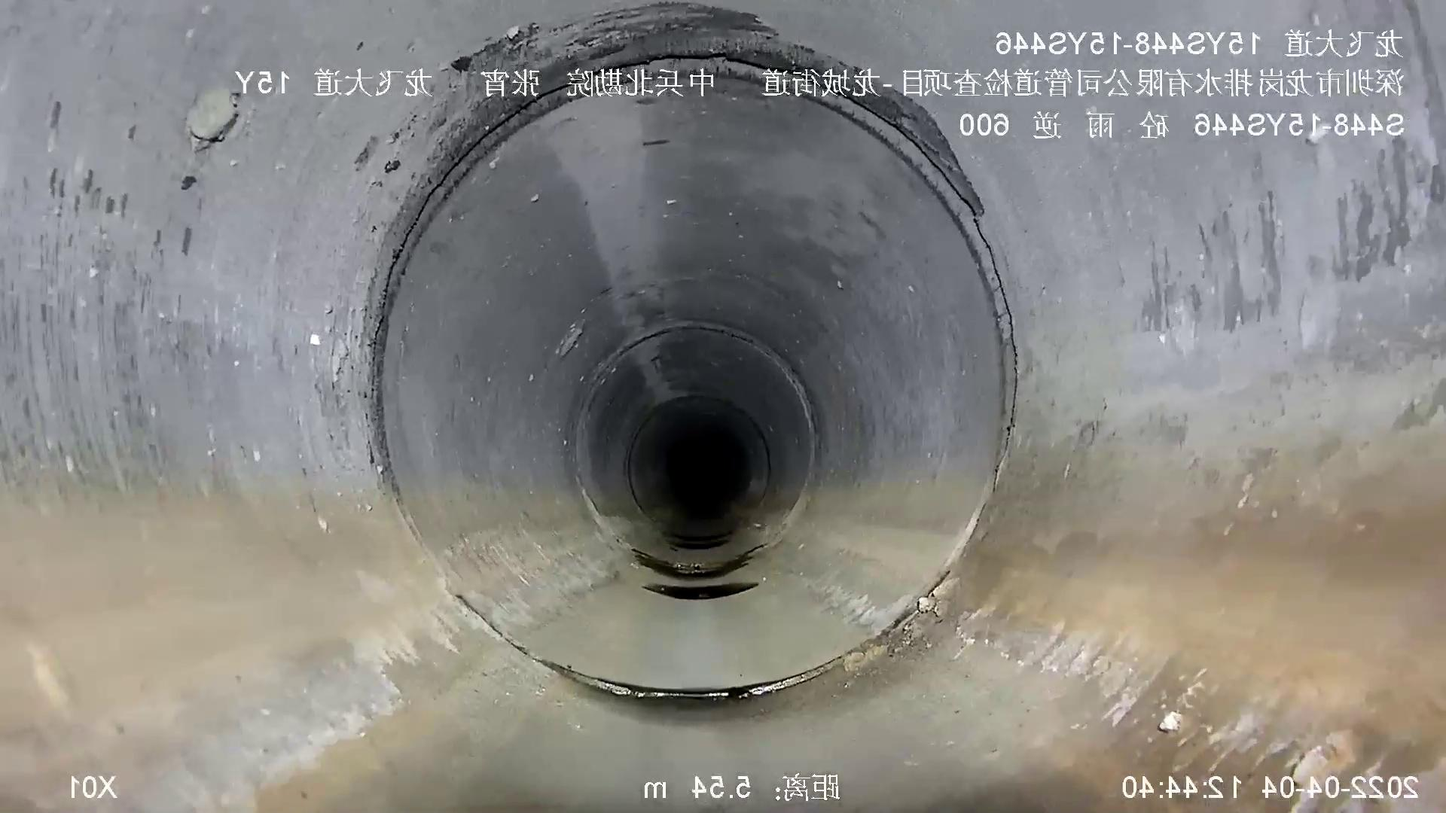CKTJ: (369, 56, 1019, 699)
